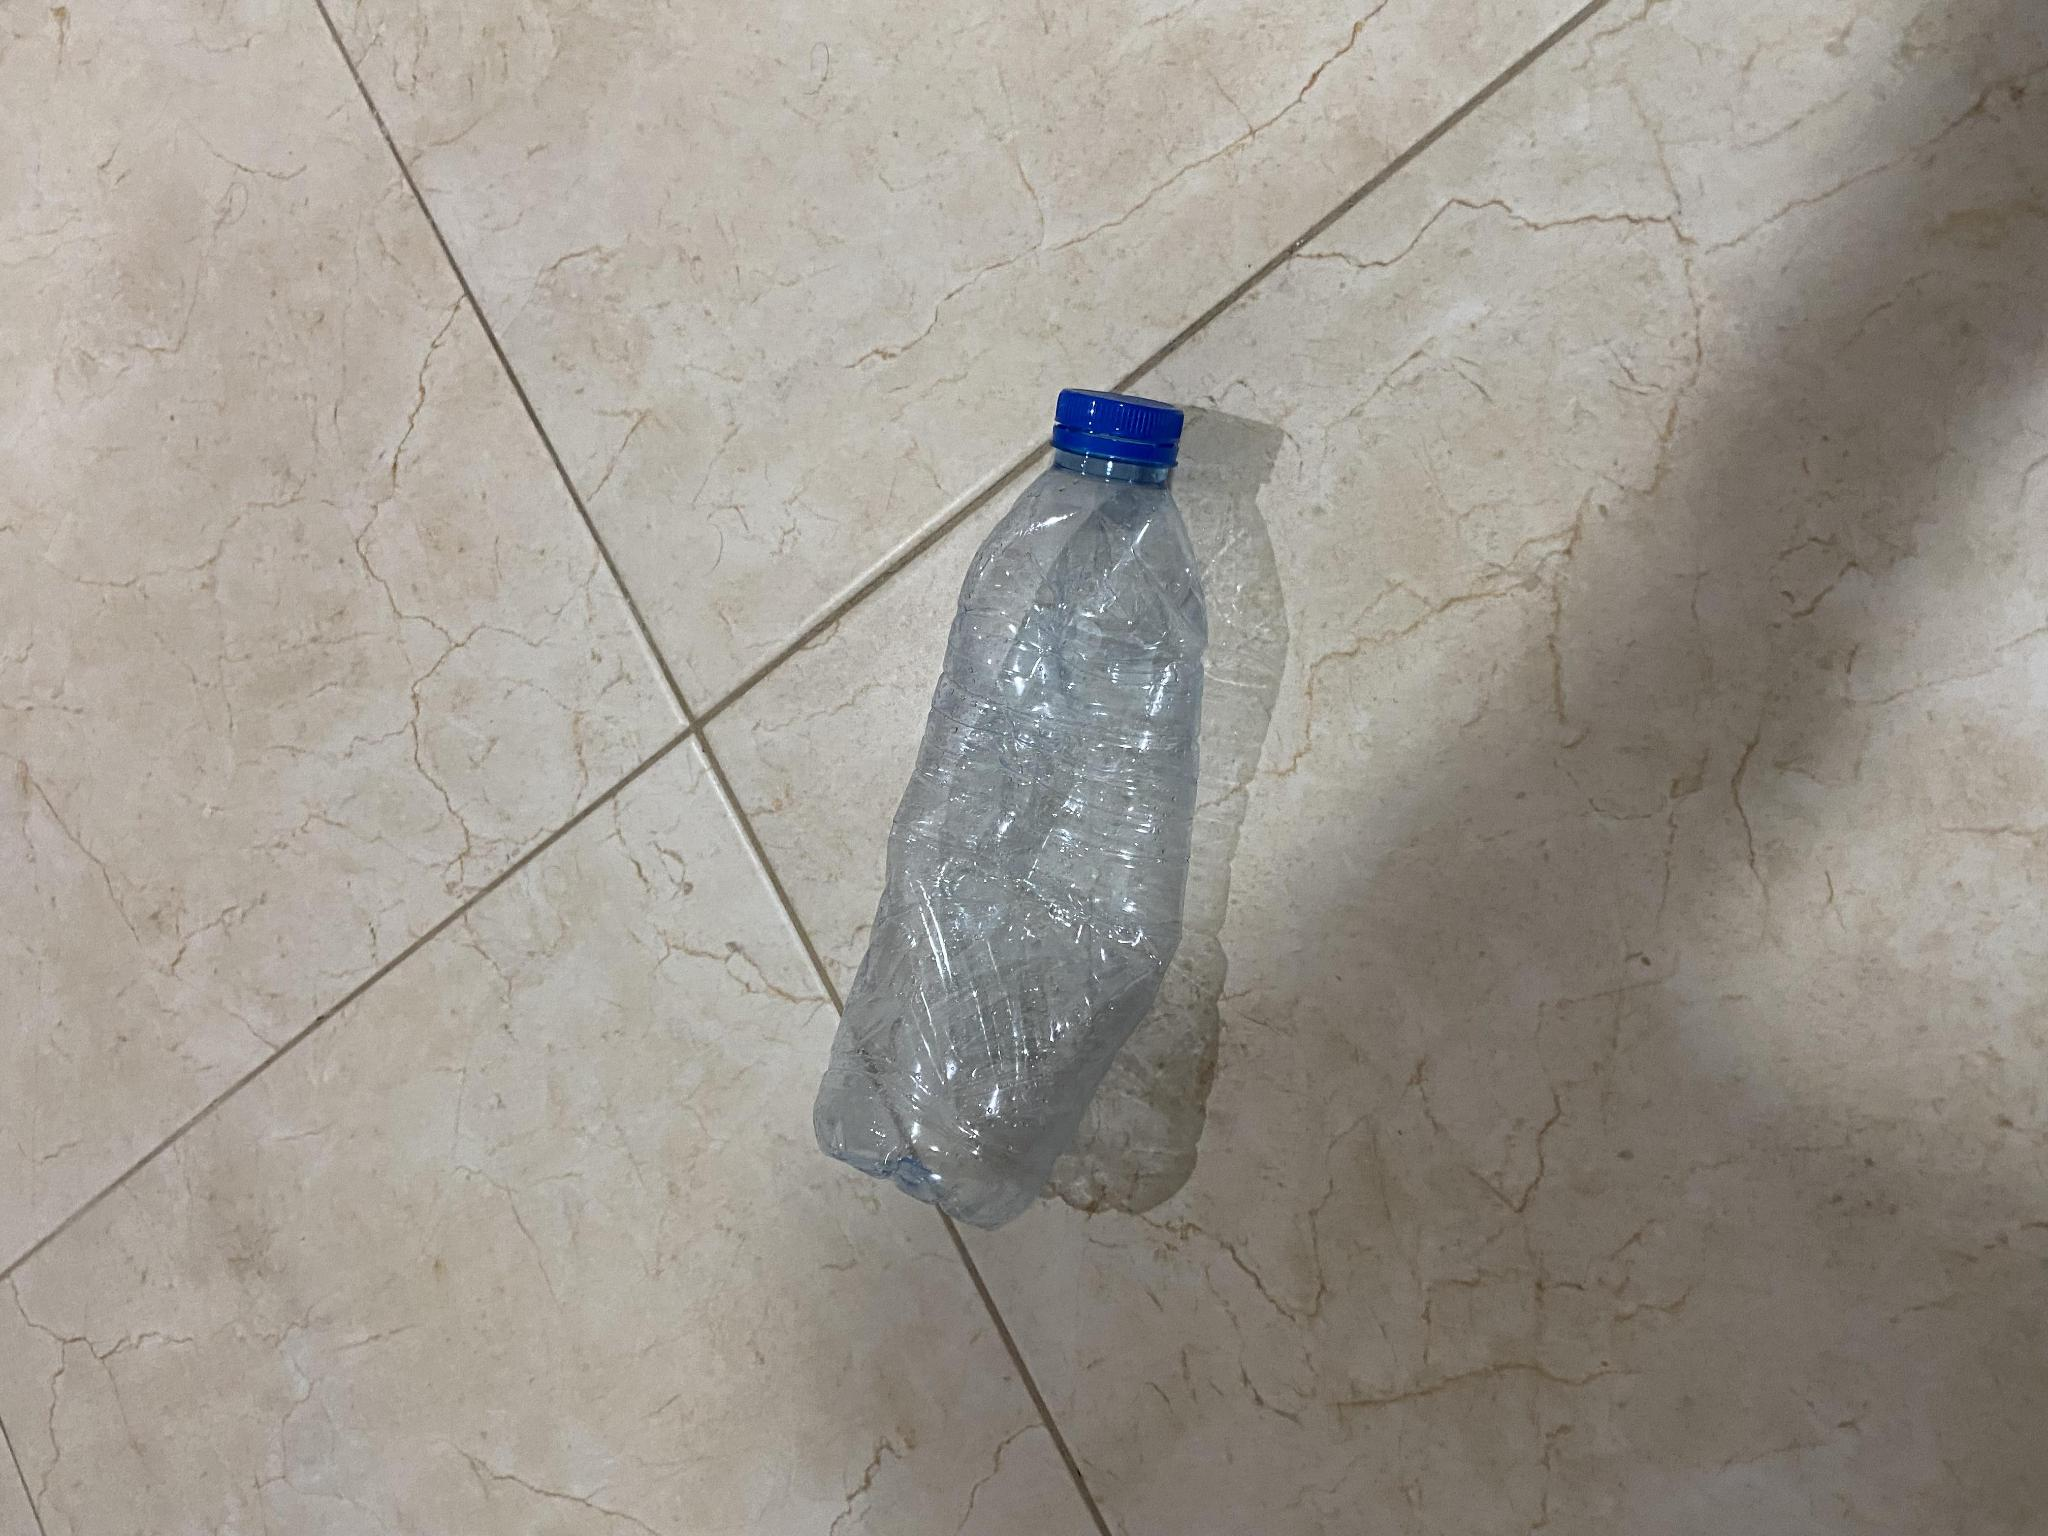bottle: (810, 355, 1214, 1231)
